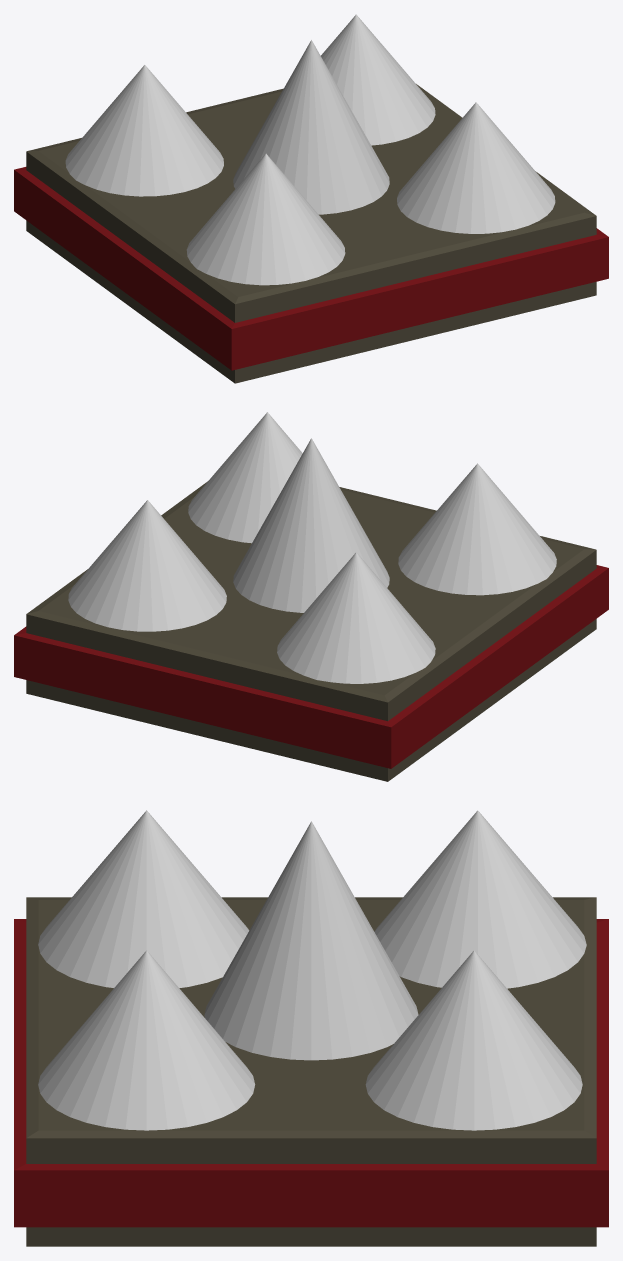
The model's file is Trap.dae.
3 renders of one model, top to bottom at view 1: azimuth 30°, elevation 25°; view 2: azimuth 150°, elevation 25°; view 3: azimuth 270°, elevation 25°, orthographic. The views are drawn at different scales.
Visible parts, largest first — view 1: Cube.003, Cube.002, Cone.009, Cone.005, Cone.006, Cone.008, Cone.007; view 2: Cube.003, Cube.002, Cone.009, Cone.005, Cone.006, Cone.007, Cone.008; view 3: Cube.003, Cube.002, Cone.009, Cone.008, Cone.007, Cone.005, Cone.006.
Boxes of the visible parts, x1,y1,x2,y2 form: Cube.003: [26, 84, 596, 383]; Cube.002: [14, 167, 608, 370]; Cone.009: [233, 40, 389, 214]; Cone.005: [65, 65, 223, 196]; Cone.006: [186, 153, 345, 285]; Cone.008: [397, 102, 555, 233]; Cone.007: [321, 14, 435, 145]; Cube.003: [26, 481, 596, 781]; Cube.002: [14, 565, 608, 768]; Cone.009: [233, 438, 389, 612]; Cone.005: [277, 552, 435, 683]; Cone.006: [398, 463, 556, 595]; Cone.007: [68, 500, 226, 631]; Cone.008: [188, 412, 302, 543]; Cube.003: [26, 897, 596, 1246]; Cube.002: [14, 919, 608, 1227]; Cone.009: [204, 821, 418, 1060]; Cone.008: [38, 950, 255, 1130]; Cone.007: [365, 950, 582, 1130]; Cone.005: [374, 810, 586, 988]; Cone.006: [38, 810, 249, 987].
Size of the model in its own units: 5.29 by 5.29 by 3.06.
